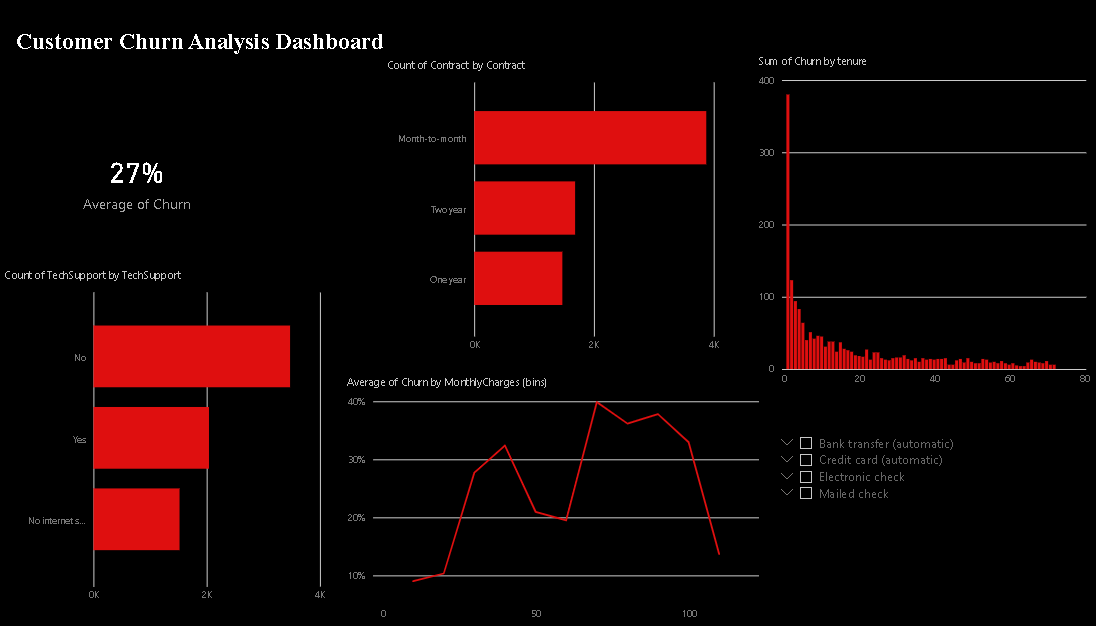

This screenshot's page, from the dashboard's own definition file:
{"tool":"powerbi","page":{"name":"Page 1","canvas":[1280,720],"ordinal":0},"visuals":[{"type":"card","fields":{"Values":["Avg(Churn_Cleaned.Churn)"]},"box":[0,105,313.2,202.9],"z":1},{"type":"barChart","fields":{"Y":["CountNonNull(Churn_Cleaned.Contract)"],"Category":["Churn_Cleaned.Contract"]},"box":[437.8,67.6,389.8,345.3],"z":2},{"type":"barChart","fields":{"Category":["Churn_Cleaned.TechSupport"],"Y":["CountNonNull(Churn_Cleaned.TechSupport)"]},"box":[0,307.2,376.9,391.1],"z":3},{"type":"lineChart","fields":{"Category":["Churn_Cleaned.MonthlyCharges (bins)"],"Y":["Avg(Churn_Cleaned.Churn)"]},"box":[391.1,429.5,480.7,290.1],"z":4},{"type":"clusteredColumnChart","fields":{"Category":["Churn_Cleaned.tenure"],"Y":["Sum(Churn_Cleaned.Churn)"]},"box":[861.9,62.6,389.7,388.3],"z":5},{"type":"slicer","fields":{"Values":["Churn_Cleaned.PaymentMethod","Churn_Cleaned.gender","Churn_Cleaned.InternetService"]},"box":[880.4,473.6,352.7,246],"z":6},{"type":"textbox","box":[12.5,28.5,795.6,76.5],"z":7}]}

Visuals, with their boxes in screenshot pixels (x1, y1, x2, y2), scaled from the page's 1280x720 canvas onto the 1096x626 screenshot:
card - Avg(Churn_Cleaned.Churn): left=0, top=91, right=268, bottom=268
barChart - CountNonNull(Churn_Cleaned.Contract) x Churn_Cleaned.Contract: left=375, top=59, right=709, bottom=359
barChart - Churn_Cleaned.TechSupport x CountNonNull(Churn_Cleaned.TechSupport): left=0, top=267, right=323, bottom=607
lineChart - Churn_Cleaned.MonthlyCharges (bins) x Avg(Churn_Cleaned.Churn): left=335, top=373, right=746, bottom=625
clusteredColumnChart - Churn_Cleaned.tenure x Sum(Churn_Cleaned.Churn): left=738, top=54, right=1072, bottom=392
slicer - Churn_Cleaned.PaymentMethod x Churn_Cleaned.gender: left=754, top=412, right=1056, bottom=625
textbox: left=11, top=25, right=692, bottom=91
